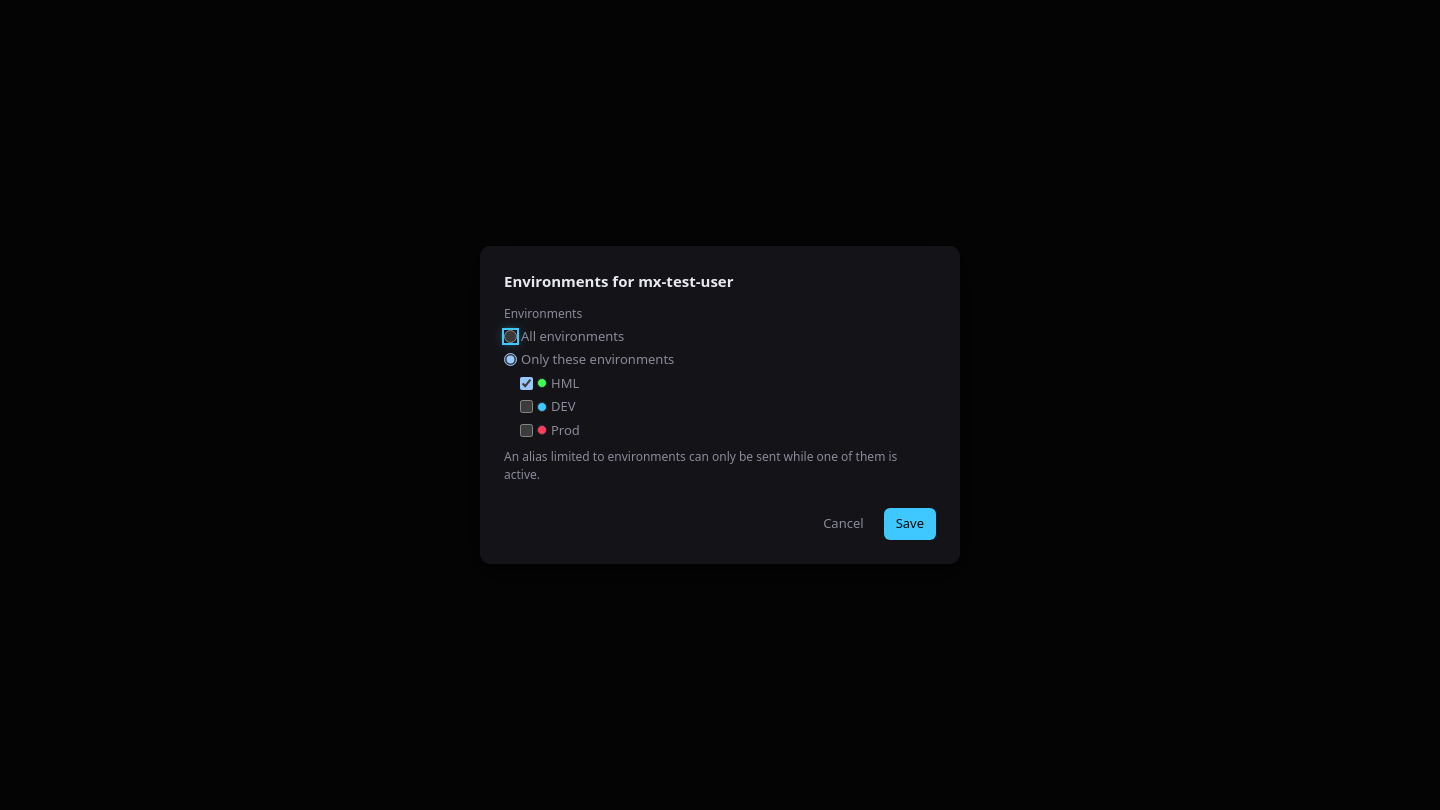
Test: AliasEnvironmentsDialog › needs at least one environment under Only these environments
What coordinates should you click on to do the following:
click the checkbox labelled "HML"
I would click on:
 (526, 383)
Its box is [520,377,533,390].
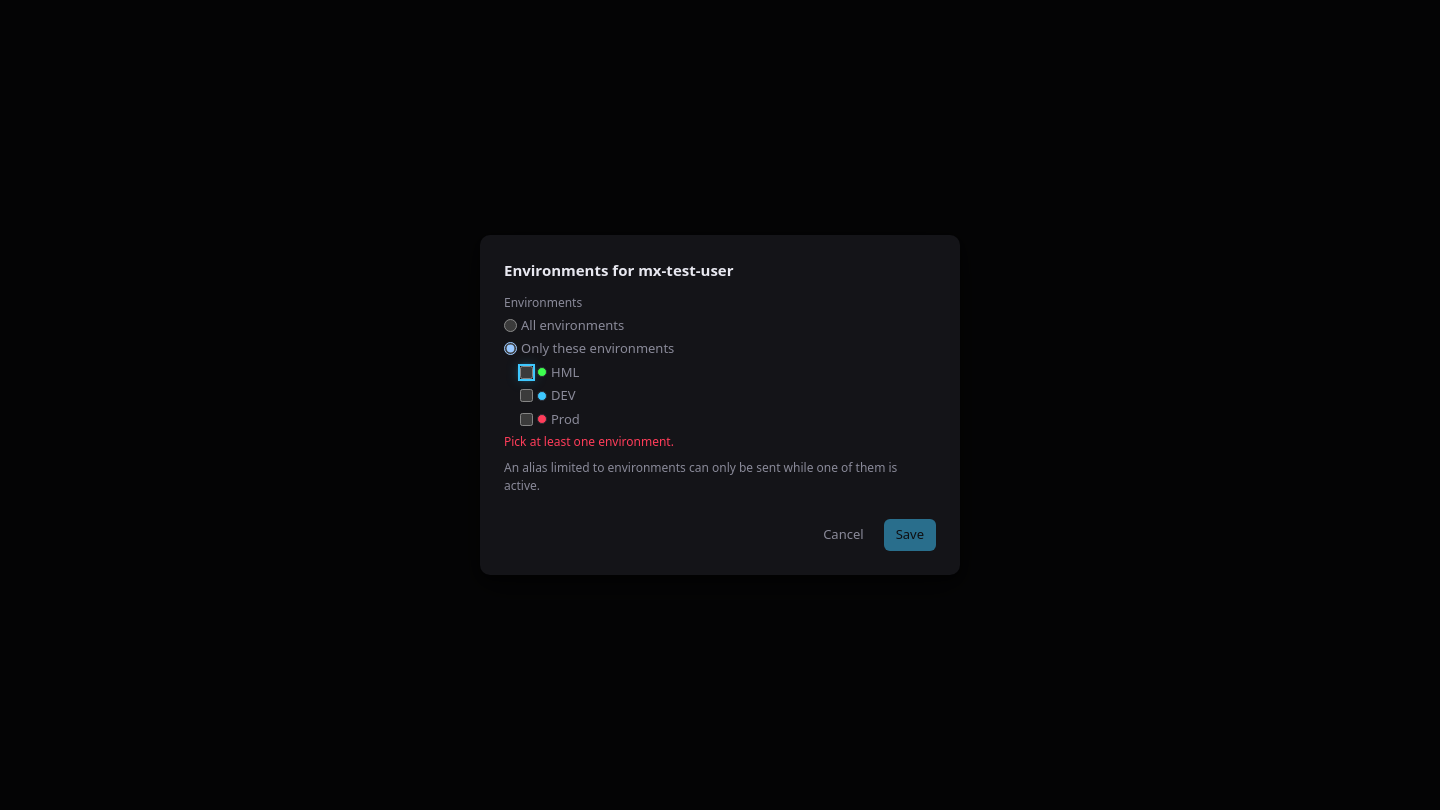
Result: the text "Pick at least one environment." is shown at [504,433,674,450]
Result: the button "Save" is disabled at [884,519,936,551]
What coordinates should you click on to do the following:
click the radio button labelled "All environments"
I would click on:
 (510, 325)
Its box is [504,319,517,332].
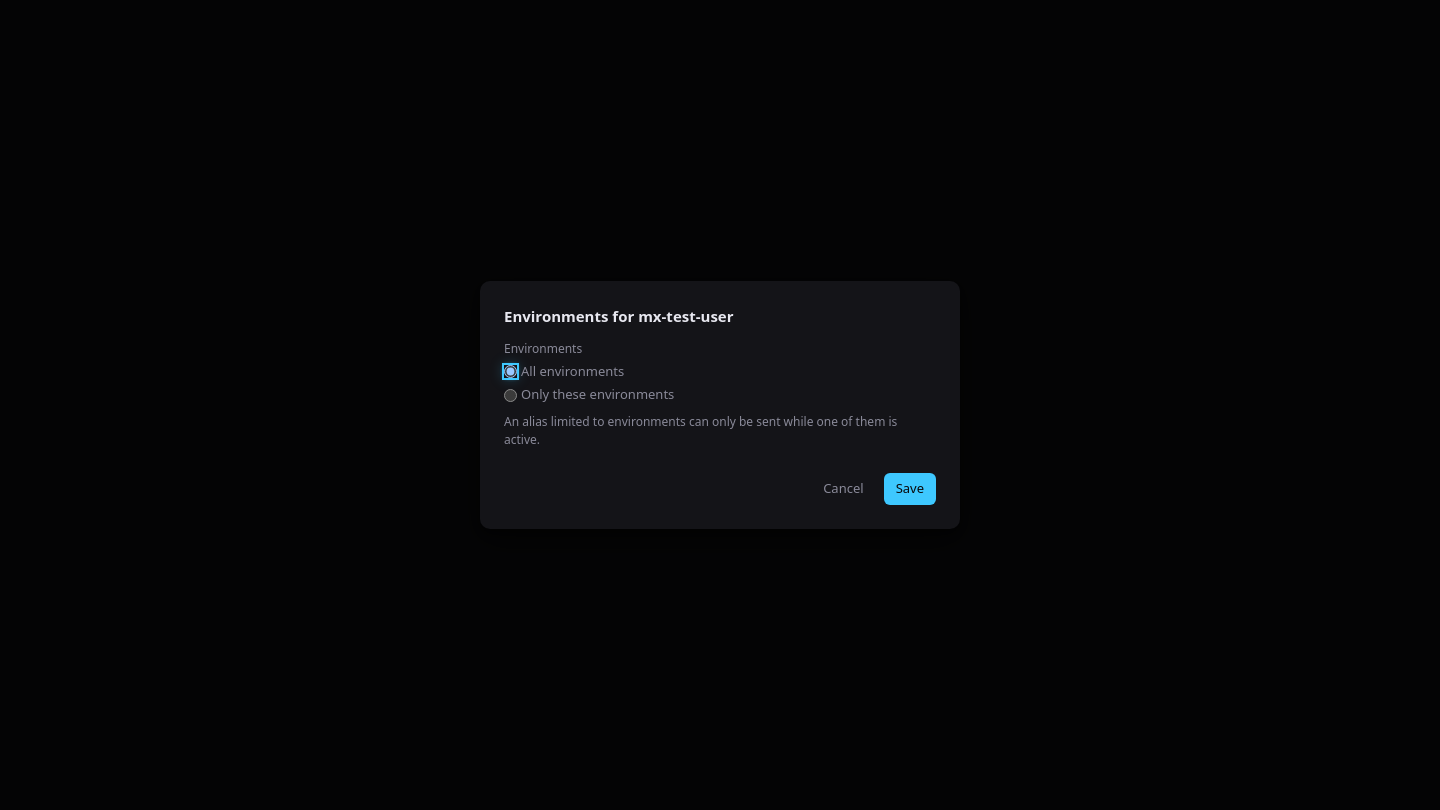
Result: the button "Save" is enabled at [884,473,936,505]
